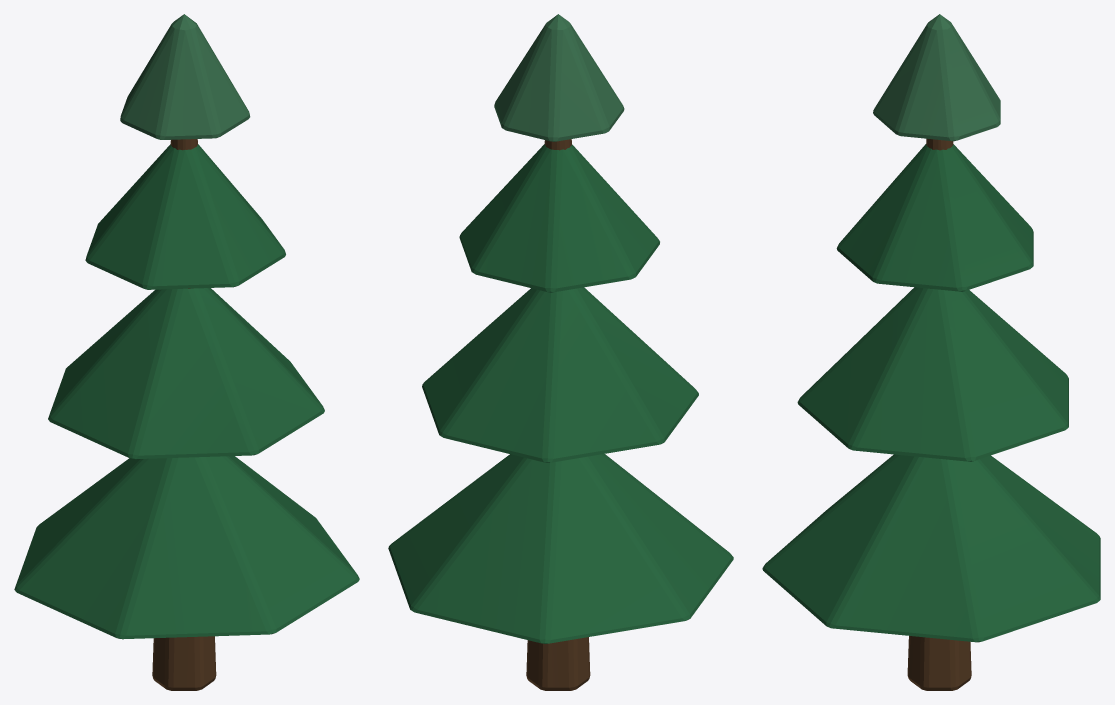
The model's file is prop_pine.glb.
3 renders of one model, left to right at view 1: azimuth 30°, elevation 25°; view 2: azimuth 150°, elevation 25°; view 3: azimuth 270°, elevation 25°, orthographic.
Visible parts, largest first — view 1: prop_pine_part_0; view 2: prop_pine_part_0; view 3: prop_pine_part_0.
Part boxes in pixels (bbox=[...]): prop_pine_part_0: bbox=[14, 14, 359, 690]; prop_pine_part_0: bbox=[388, 14, 733, 690]; prop_pine_part_0: bbox=[762, 14, 1100, 690].
Size of the model in its own units: 2.55 by 5.42 by 2.49.
